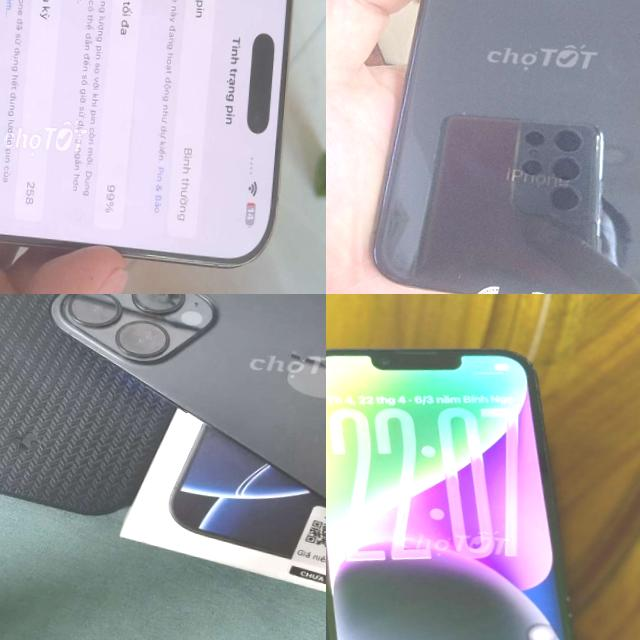scratch: (444, 265, 474, 289), (451, 101, 477, 122)
